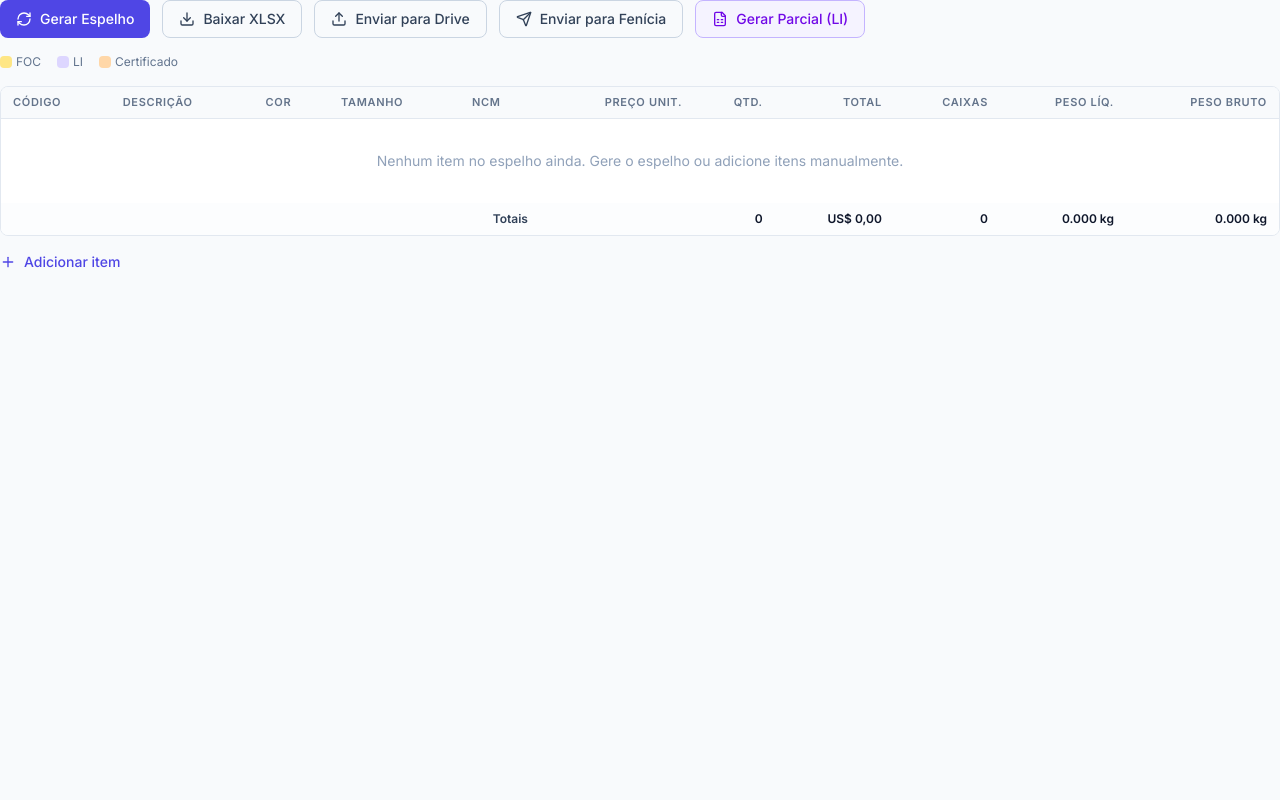
Test case: EspelhoPreview › requires confirmation before sending the espelho to Fenicia
The image size is (1280, 800).
Click the button "Enviar para Fenícia" at (591, 19), box 499,0 -> 683,38
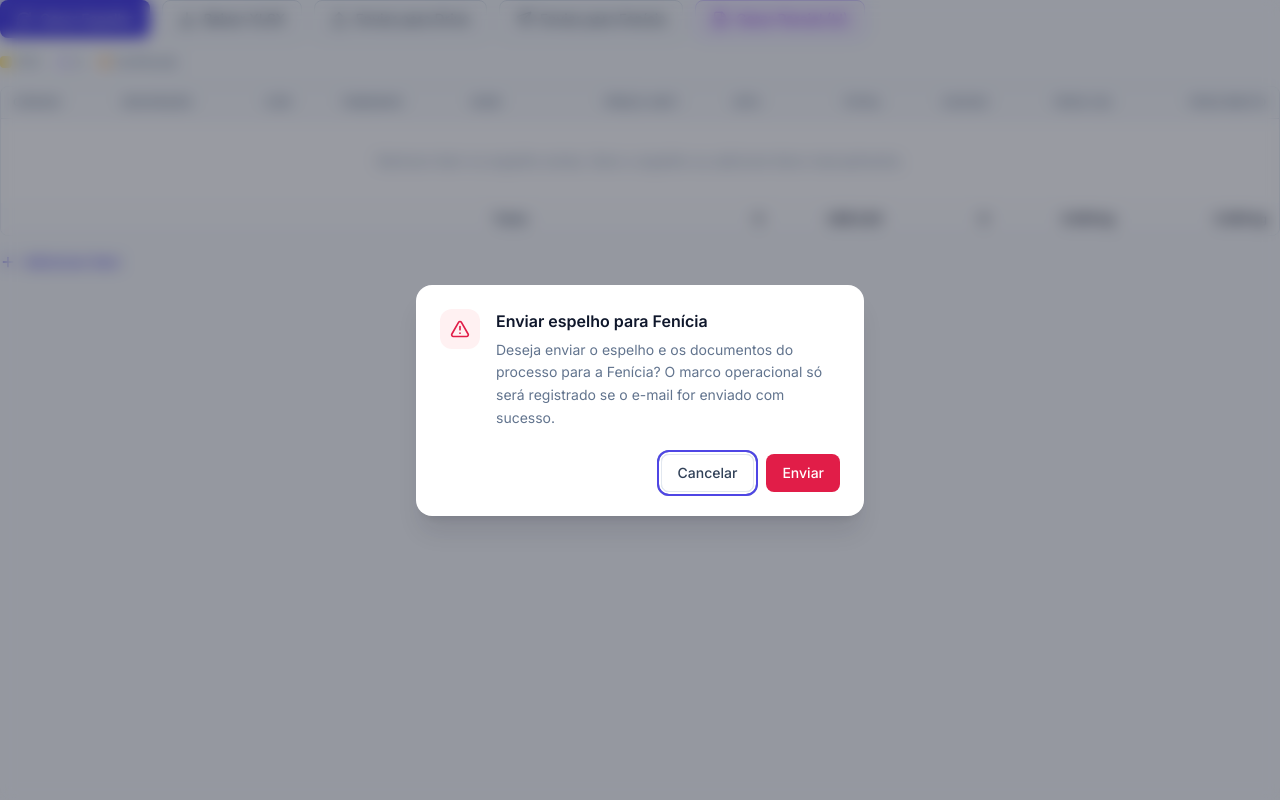
Check: the dialog "Enviar espelho para Fenícia" is shown, box 416,284 -> 864,516
